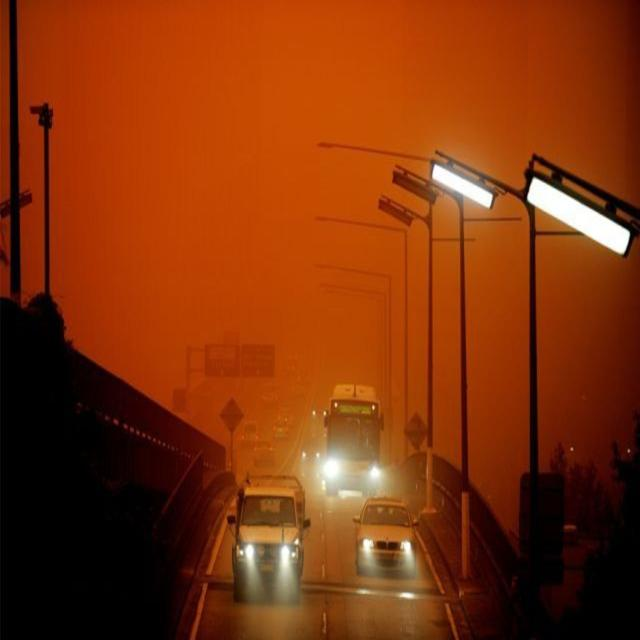car: (231, 480, 307, 597), (355, 496, 419, 578), (252, 438, 276, 468), (240, 420, 258, 447), (302, 441, 320, 462), (271, 420, 289, 440), (261, 385, 278, 405)
truck: (324, 382, 384, 501)
